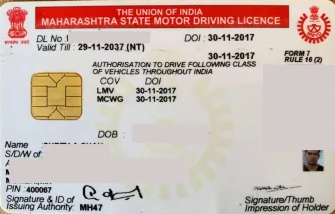drivinglicence: (3, 1, 334, 212)
